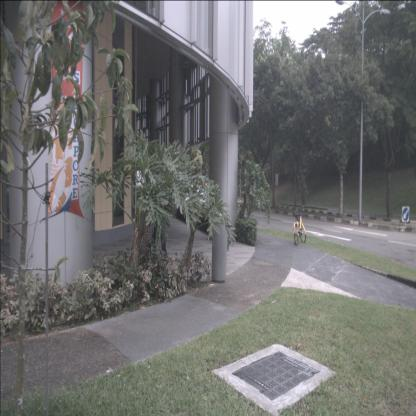vehicle-bicycle: (294, 206, 306, 246)
